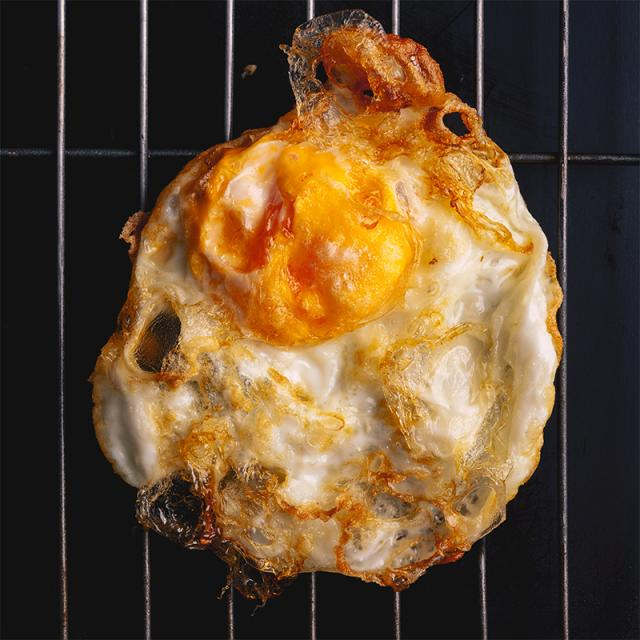Egg: (91, 11, 560, 599)
